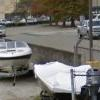Boat: (1, 33, 34, 80)
